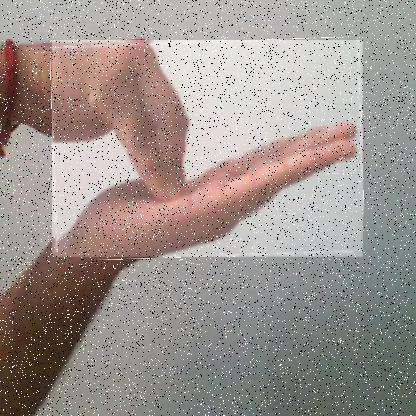Z: (52, 40, 364, 258)
